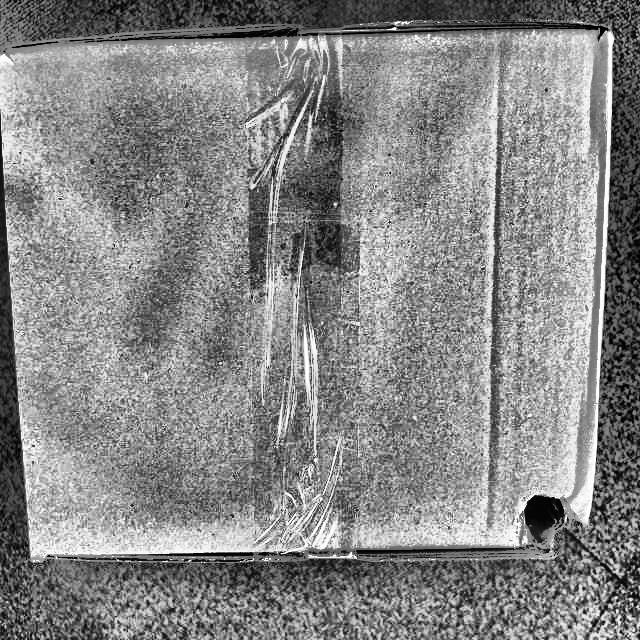box: (0, 18, 634, 566)
hole: (514, 477, 590, 547)
